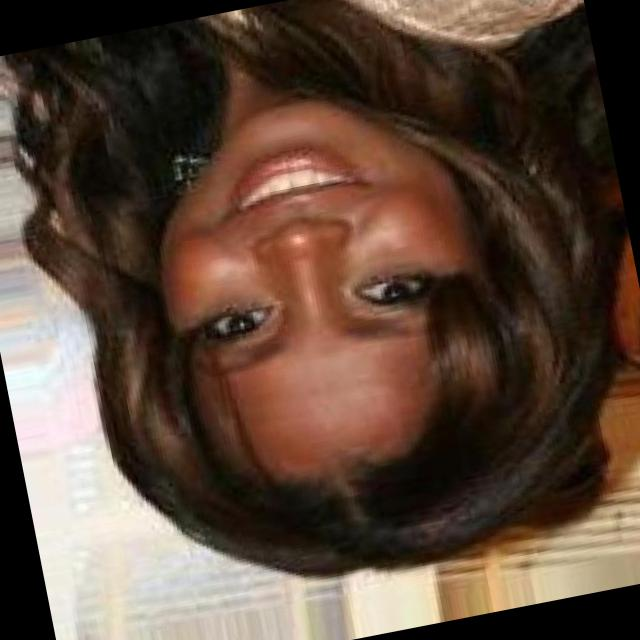bareface: (127, 49, 583, 574)
